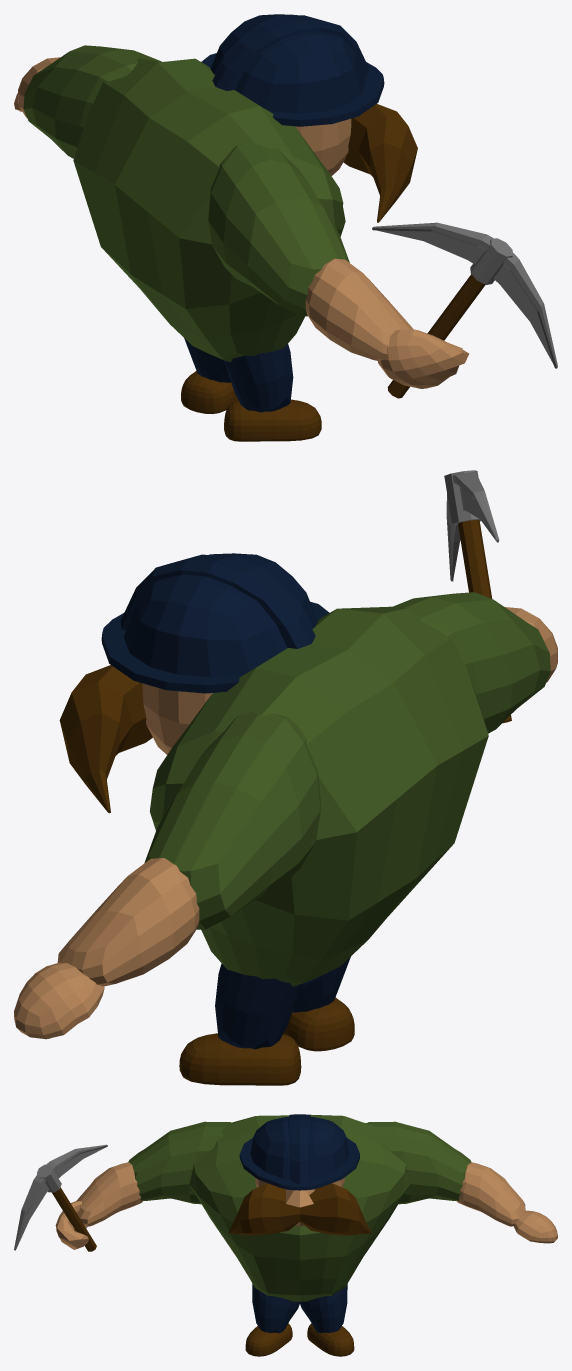
The model's file is mineur_v2.fbx.
The picture shows the model from 3 angles, top to bottom: view 1: azimuth 30°, elevation 25°; view 2: azimuth 150°, elevation 25°; view 3: azimuth 270°, elevation 25°; orthographic projection. The views are drawn at different scales.
Visible parts, largest first — view 1: mineur; view 2: mineur; view 3: mineur.
Boxes of the visible parts, x1=… form: mineur: x1=14, y1=14, x2=557, y2=441; mineur: x1=14, y1=470, x2=557, y2=1085; mineur: x1=14, y1=1114, x2=557, y2=1356.
Bounding box in the file's own units: 4.9 × 6.81 × 13.99.
1 material, 1 textured.
